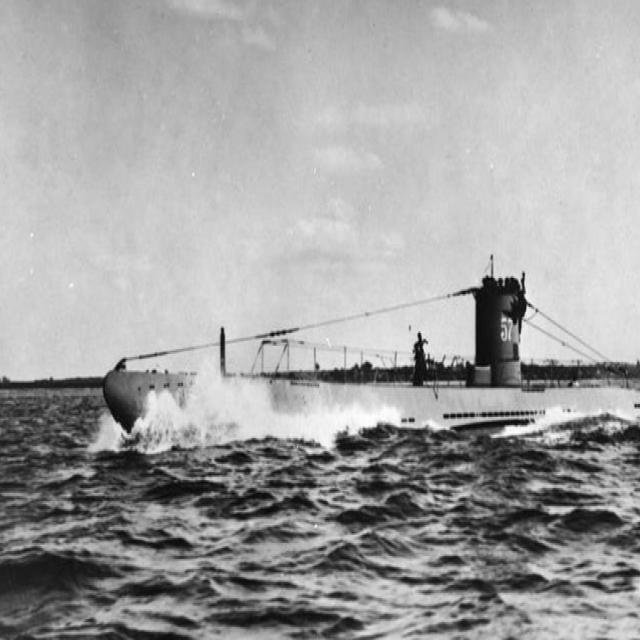submarine: (109, 294, 640, 439)
